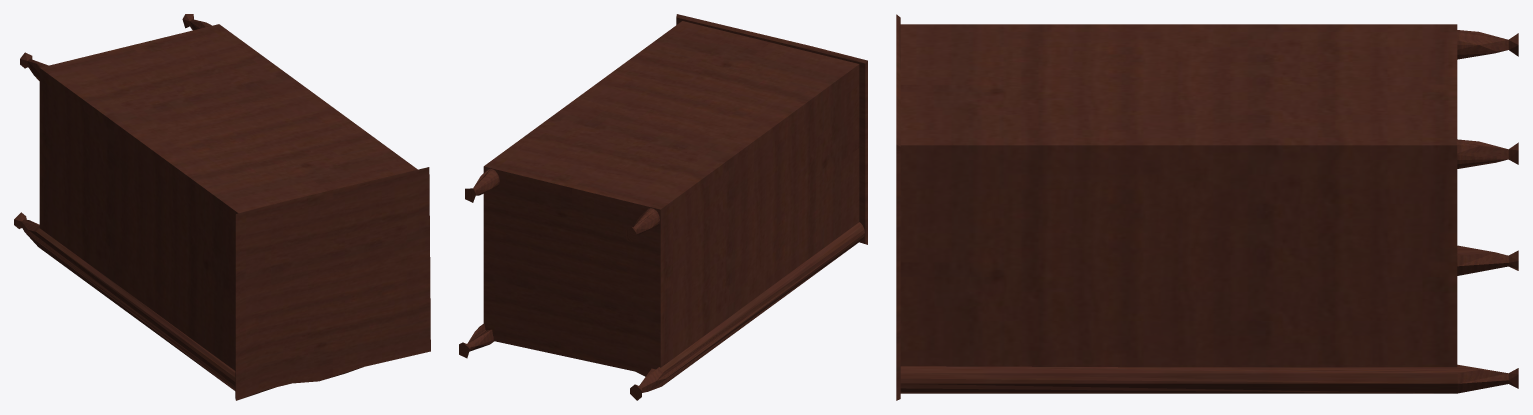
The model's file is commodenightstand3_wtf.obj.
3 renders of one model, left to right at view 1: azimuth 30°, elevation 25°; view 2: azimuth 150°, elevation 25°; view 3: azimuth 270°, elevation 25°, orthographic. The views are drawn at different scales.
Visible parts, largest first — view 1: group2; view 2: group2; view 3: group2.
Part boxes in pixels (<box>): group2: <box>14,14,430,400</box>; group2: <box>459,14,867,400</box>; group2: <box>896,14,1518,400</box>.
Bounding box in the file's own units: 330 × 304 × 660.
